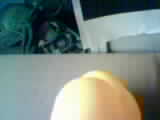duck: (50, 58, 148, 116)
